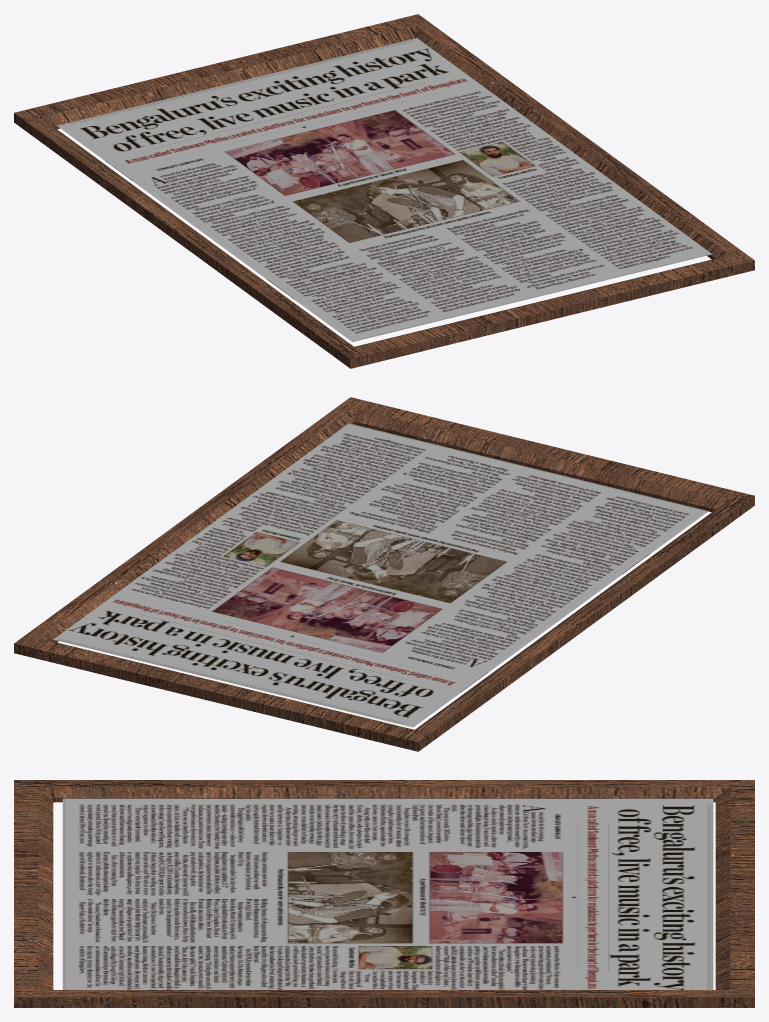
3 renders of one model, top to bottom at view 1: azimuth 30°, elevation 25°; view 2: azimuth 150°, elevation 25°; view 3: azimuth 270°, elevation 25°, orthographic. The views are drawn at different scales.
Parts seen in each view (by area): view 1: Plane, frame1(1); view 2: Plane, frame1(1); view 3: Plane, frame1(1).
Part boxes in pixels (box(x1,y1,x2,y2)): Plane: box(57, 38, 711, 341); frame1(1): box(14, 14, 754, 368); Plane: box(53, 423, 708, 727); frame1(1): box(14, 397, 754, 751); Plane: box(62, 798, 713, 989); frame1(1): box(14, 780, 754, 1007).
Size of the model in its own units: 18.6 by 0.4268 by 26.81.
2 materials, 2 textured.
